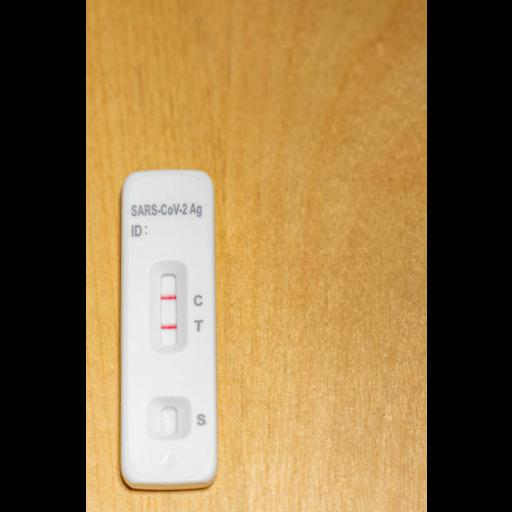Pos: (118, 172, 214, 482)
